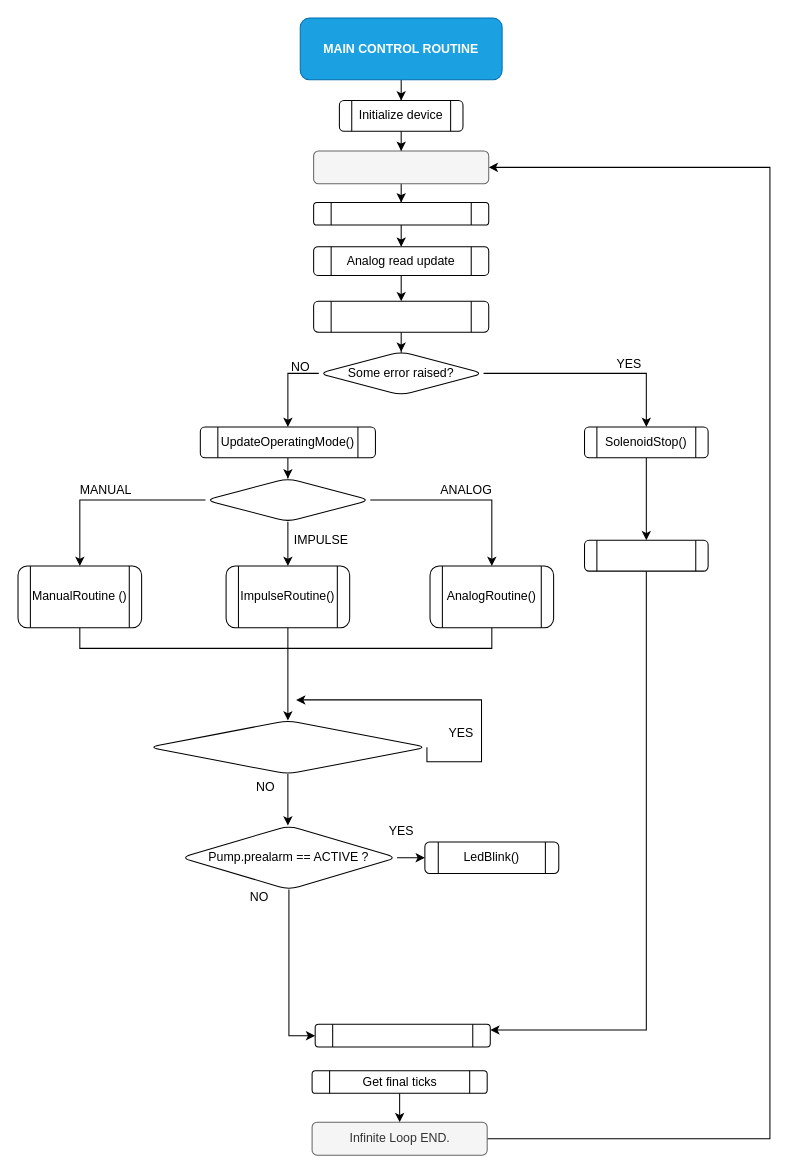
The diagram is 796 pixels wide and 1173 high, and some of its shapes have lost their labels. Here are the shapes that lost their labels. From the top down, the centre of each, then its label:
[401,167]: Infinite Loop START.
[401,213]: Get initial ticks
[401,316]: UpdatePumpStatus ()
[287,499]: Operating mode?
[645,555]: ShowError()
[287,746]: Pump.external_stop == ACTIVE ?
[402,1035]: Debugging routines
